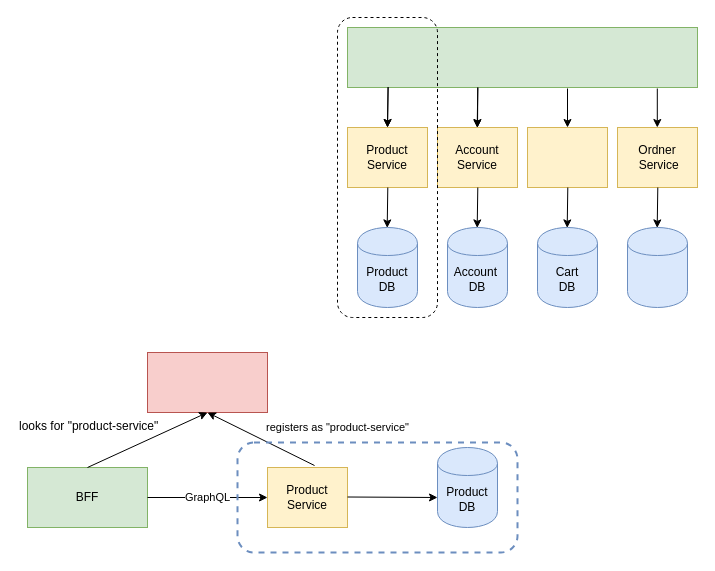
Image size: 715x571. Some labels were removed from this diagram. Each missing label, with the centre of its shape:
"Backend for Frontend (BFF) Online Shop" goes at [522,57].
"Cart Service" goes at [567,157].
"Order DB" goes at [657,267].
"Service Discovery (Eureka)" goes at [207,382].
